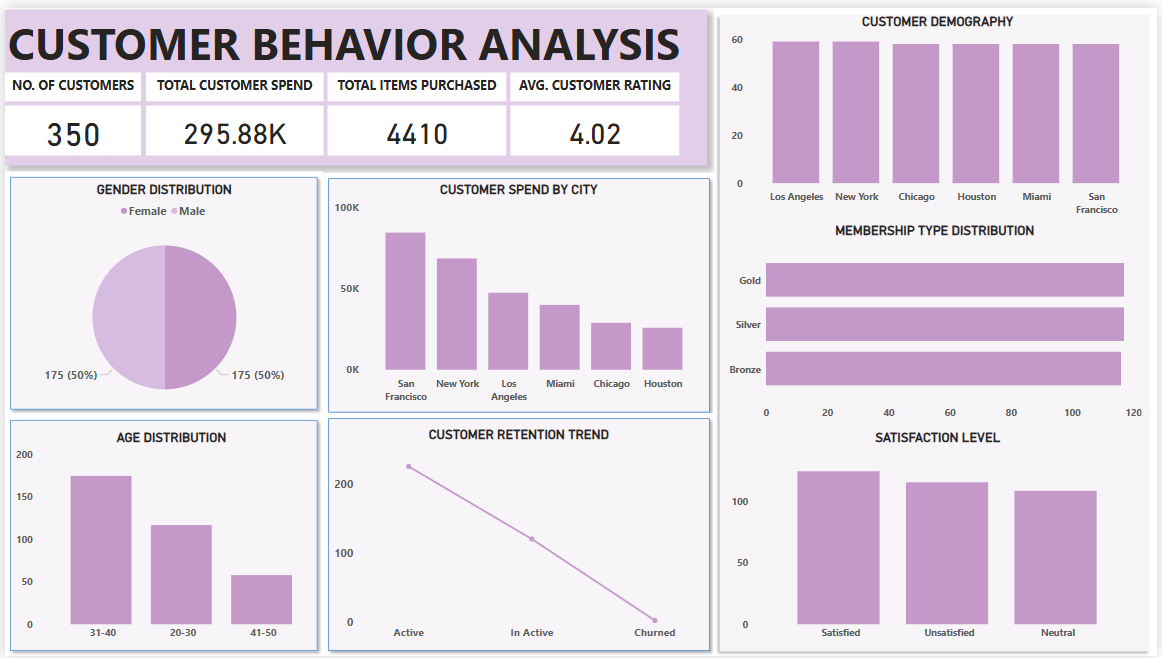

What the dashboard file says about the page in this screenshot:
{"tool":"powerbi","page":{"name":"Page 1","canvas":[1920,1080],"ordinal":0},"visuals":[{"type":"textbox","box":[0,3.3,1170,260],"z":0},{"type":"card","fields":{"Values":["Sum(E-commerce Customer Behavior - Sheet1.Total Spend)"]},"box":[233.8,162.2,295.9,83.5],"z":1000},{"type":"card","fields":{"Values":["Sum(E-commerce Customer Behavior - Sheet1.Items Purchased)"]},"box":[536.8,162.2,298.2,83.5],"z":2000},{"type":"card","title":"AVG. CUSTOMER RATING","fields":{"Values":["Avg(E-commerce Customer Behavior - Sheet1.Average Rating)"]},"box":[842.2,162.2,281.5,83.5],"z":3000},{"type":"textbox","box":[0,107.4,226.7,47.7],"z":4000},{"type":"textbox","box":[233.8,107.4,295.9,47.7],"z":5000},{"type":"textbox","box":[536.8,107.4,298.2,47.7],"z":6000},{"type":"textbox","box":[842.2,107.4,281.5,47.7],"z":7000},{"type":"card","fields":{"Values":["CountNonNull(E-commerce Customer Behavior - Sheet1.Customer ID)"]},"box":[0,162.2,226.7,83.5],"z":8000},{"type":"shape","box":[0,272,529.7,405.6],"z":9000},{"type":"shape","box":[529.7,274.4,653.7,408],"z":10000},{"type":"shape","box":[0,677.6,529.7,403.2],"z":11000},{"type":"columnChart","title":"AGE DISTRIBUTION","fields":{"Category":["E-commerce Customer Behavior - Sheet1.Age Group"],"Y":["CountNonNull(E-commerce Customer Behavior - Sheet1.Customer ID)"]},"box":[11.9,701.5,529.7,360.3],"z":12000},{"type":"pieChart","title":"GENDER DISTRIBUTION","fields":{"Category":["E-commerce Customer Behavior - Sheet1.Gender"],"Y":["CountNonNull(E-commerce Customer Behavior - Sheet1.Customer ID)"]},"box":[11.9,291.1,505.8,391.3],"z":13000},{"type":"shape","box":[529.7,675.2,653.7,405.6],"z":14000},{"type":"shape","box":[1183.4,2.4,734.9,1078.4],"z":15000},{"type":"columnChart","title":"CUSTOMER SPEND BY CITY","fields":{"Category":["E-commerce Customer Behavior - Sheet1.City"],"Y":["Sum(E-commerce Customer Behavior - Sheet1.Total Spend)"]},"box":[541.6,291.1,627.5,374.6],"z":17000},{"type":"barChart","title":"MEMBERSHIP TYPE DISTRIBUTION","fields":{"Category":["E-commerce Customer Behavior - Sheet1.Membership Type"],"Y":["CountNonNull(E-commerce Customer Behavior - Sheet1.Customer ID)"]},"box":[1200.1,357.9,699.1,338.8],"z":18000},{"type":"barChart","title":"CUSTOMER RETENTION TREND","fields":{"Category":["E-commerce Customer Behavior - Sheet1.Retention_Trend"],"Y":["CountNonNull(E-commerce Customer Behavior - Sheet1.Customer ID)"]},"box":[541.6,696.7,627.5,365],"z":19001},{"type":"columnChart","title":"SATISFACTION LEVEL","fields":{"Y":["CountNonNull(E-commerce Customer Behavior - Sheet1.Customer ID)"],"Category":["E-commerce Customer Behavior - Sheet1.Satisfaction Level"]},"box":[1204.9,701.5,699.1,360.3],"z":19002},{"type":"columnChart","title":"CUSTOMER DEMOGRAPHY","fields":{"Category":["E-commerce Customer Behavior - Sheet1.City"],"Y":["CountNonNull(E-commerce Customer Behavior - Sheet1.Customer ID)"]},"box":[1204.9,9.5,699.1,343.6],"z":19003}]}

Visuals, with their boxes in screenshot pixels (x1, y1, x2, y2), scaled from the page's 1920x1080 canvas onto the 1162x658 screenshot:
textbox: locate(0, 2, 708, 160)
card - Sum(E-commerce Customer Behavior - Sheet1.Total Spend): locate(141, 99, 321, 150)
card - Sum(E-commerce Customer Behavior - Sheet1.Items Purchased): locate(325, 99, 505, 150)
"AVG. CUSTOMER RATING" card: locate(510, 99, 680, 150)
textbox: locate(0, 65, 137, 94)
textbox: locate(141, 65, 321, 94)
textbox: locate(325, 65, 505, 94)
textbox: locate(510, 65, 680, 94)
card - CountNonNull(E-commerce Customer Behavior - Sheet1.Customer ID): locate(0, 99, 137, 150)
shape: locate(0, 166, 321, 413)
shape: locate(321, 167, 716, 416)
shape: locate(0, 413, 321, 657)
"AGE DISTRIBUTION" columnChart: locate(7, 427, 328, 647)
"GENDER DISTRIBUTION" pieChart: locate(7, 177, 313, 416)
shape: locate(321, 411, 716, 657)
shape: locate(716, 1, 1161, 657)
"CUSTOMER SPEND BY CITY" columnChart: locate(328, 177, 708, 406)
"MEMBERSHIP TYPE DISTRIBUTION" barChart: locate(726, 218, 1149, 424)
"CUSTOMER RETENTION TREND" barChart: locate(328, 424, 708, 647)
"SATISFACTION LEVEL" columnChart: locate(729, 427, 1152, 647)
"CUSTOMER DEMOGRAPHY" columnChart: locate(729, 6, 1152, 215)
